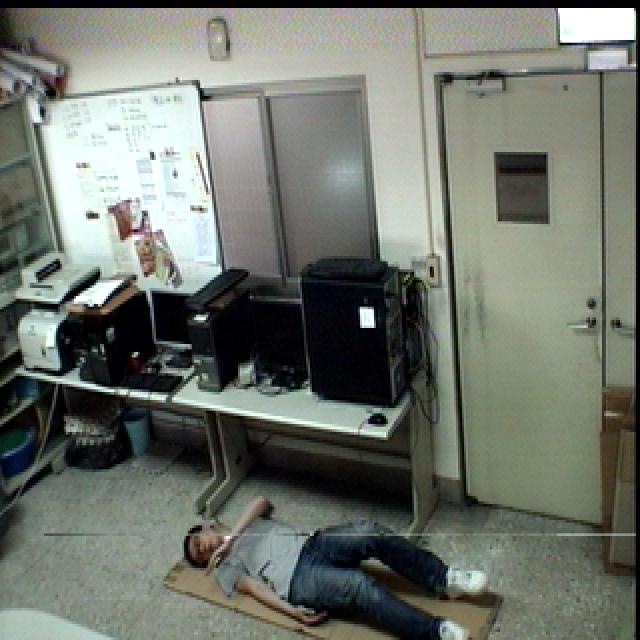lie: (172, 479, 490, 640)
